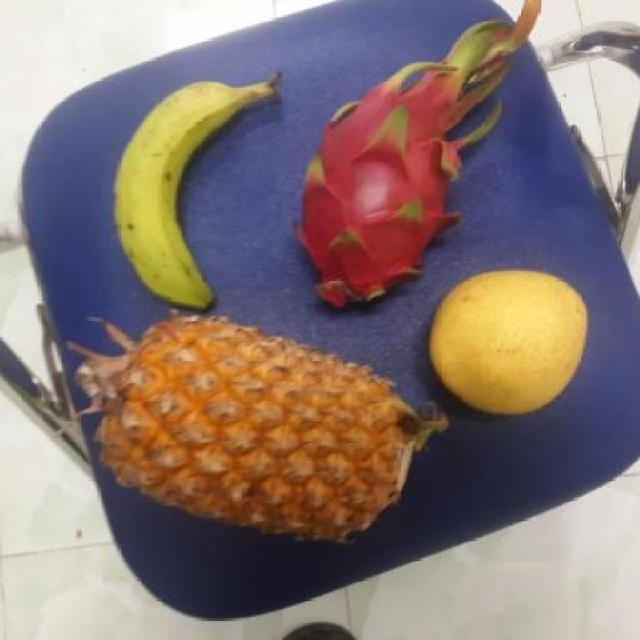banana: (106, 81, 266, 305)
dragon fruit: (280, 79, 486, 307)
pear: (430, 262, 588, 422)
pineapple: (77, 312, 421, 538)
